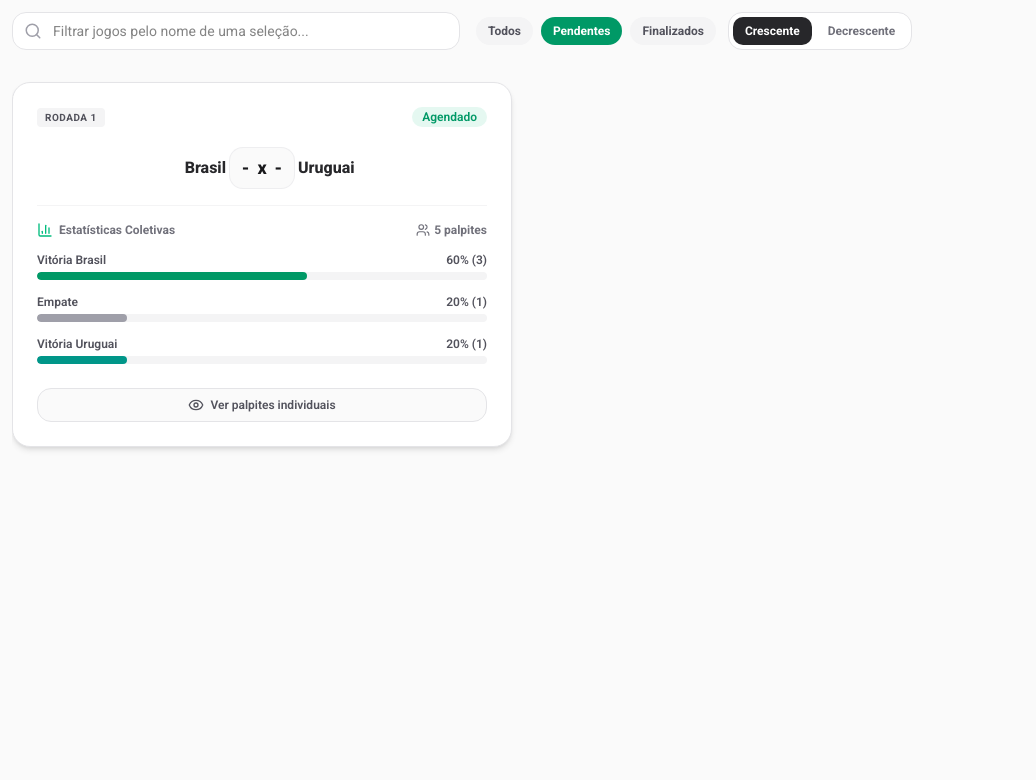
it: PalpitesStats › deve exibir as estatisticas coletivas e o aviso de bloqueio se o jogo nao tiver começado
The image size is (1036, 780).
Check: the text "Brasil" is shown, box [185, 158, 226, 177]
Check: the text "Uruguai" is shown, box [298, 158, 355, 177]
Click the button "Ver palpites individuais" at coordinates (262, 405), box [37, 388, 487, 422]
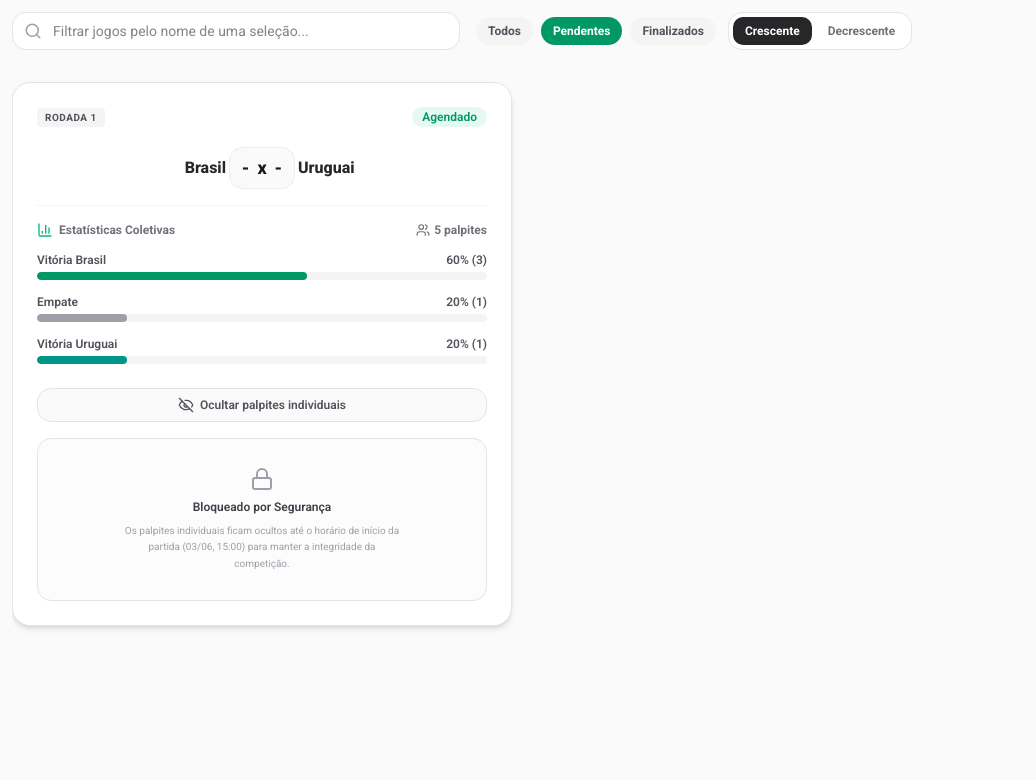
Check: the text "Bloqueado por Segurança" is shown, box [193, 499, 331, 515]
